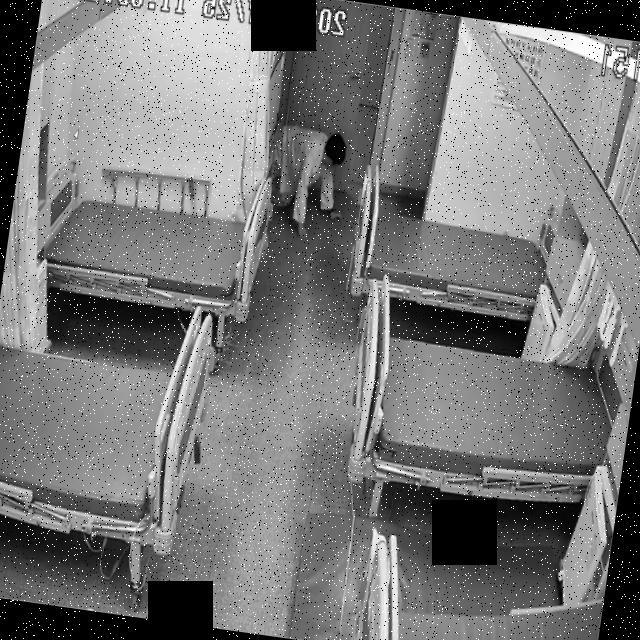bed: (0, 279, 220, 552), (341, 324, 623, 512), (25, 173, 274, 323), (350, 198, 551, 320)
fall: (260, 124, 354, 250)
patient: (259, 124, 354, 248)
